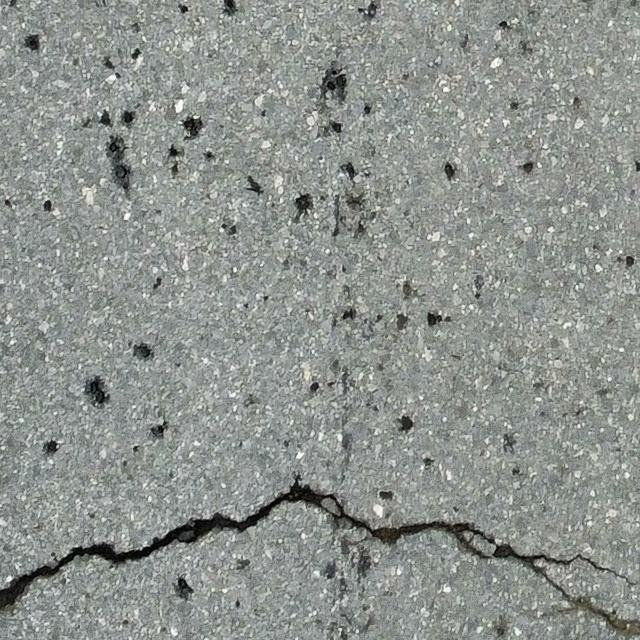TransverseCrack: (1, 474, 640, 637)
